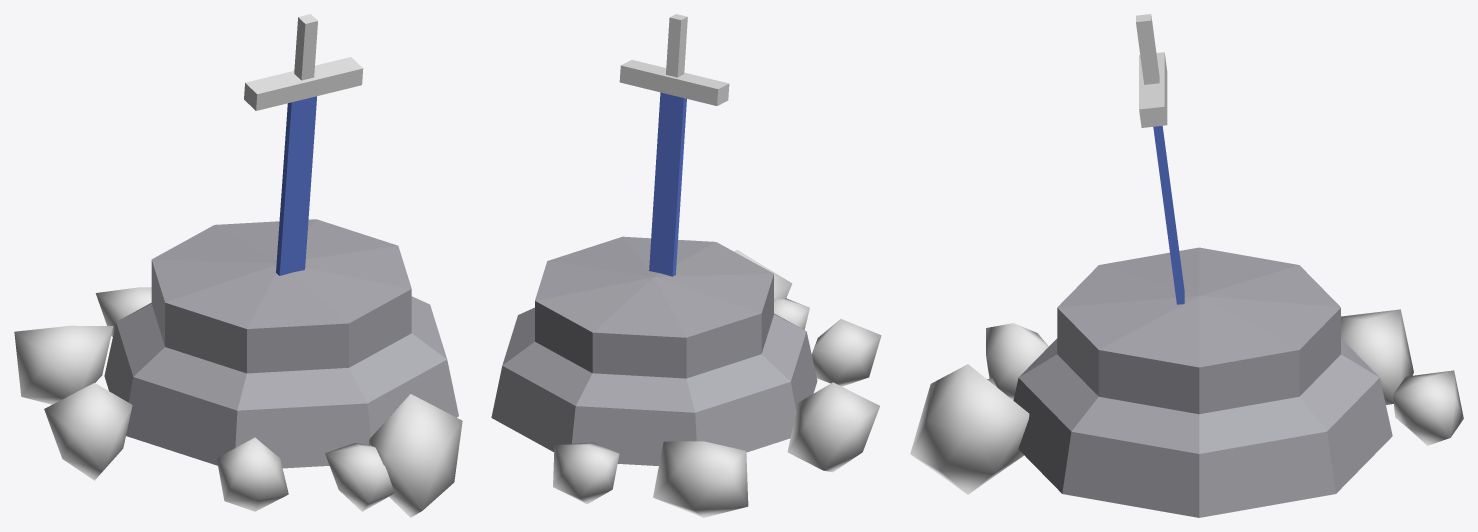
File: blade_shrine_v0.glb
3 views of the same model, side by side, from view 1: azimuth 30°, elevation 25°; view 2: azimuth 150°, elevation 25°; view 3: azimuth 270°, elevation 25° (orthographic). The views are drawn at different scales.
Visible parts, largest first — view 1: blade_shrine_v0; view 2: blade_shrine_v0; view 3: blade_shrine_v0.
Part boxes in pixels (x1,y1,x2,y2): blade_shrine_v0: (14, 14, 462, 517); blade_shrine_v0: (491, 14, 881, 517); blade_shrine_v0: (910, 14, 1463, 517).
Bounding box in the file's own units: 1.82 × 2 × 2.15.
